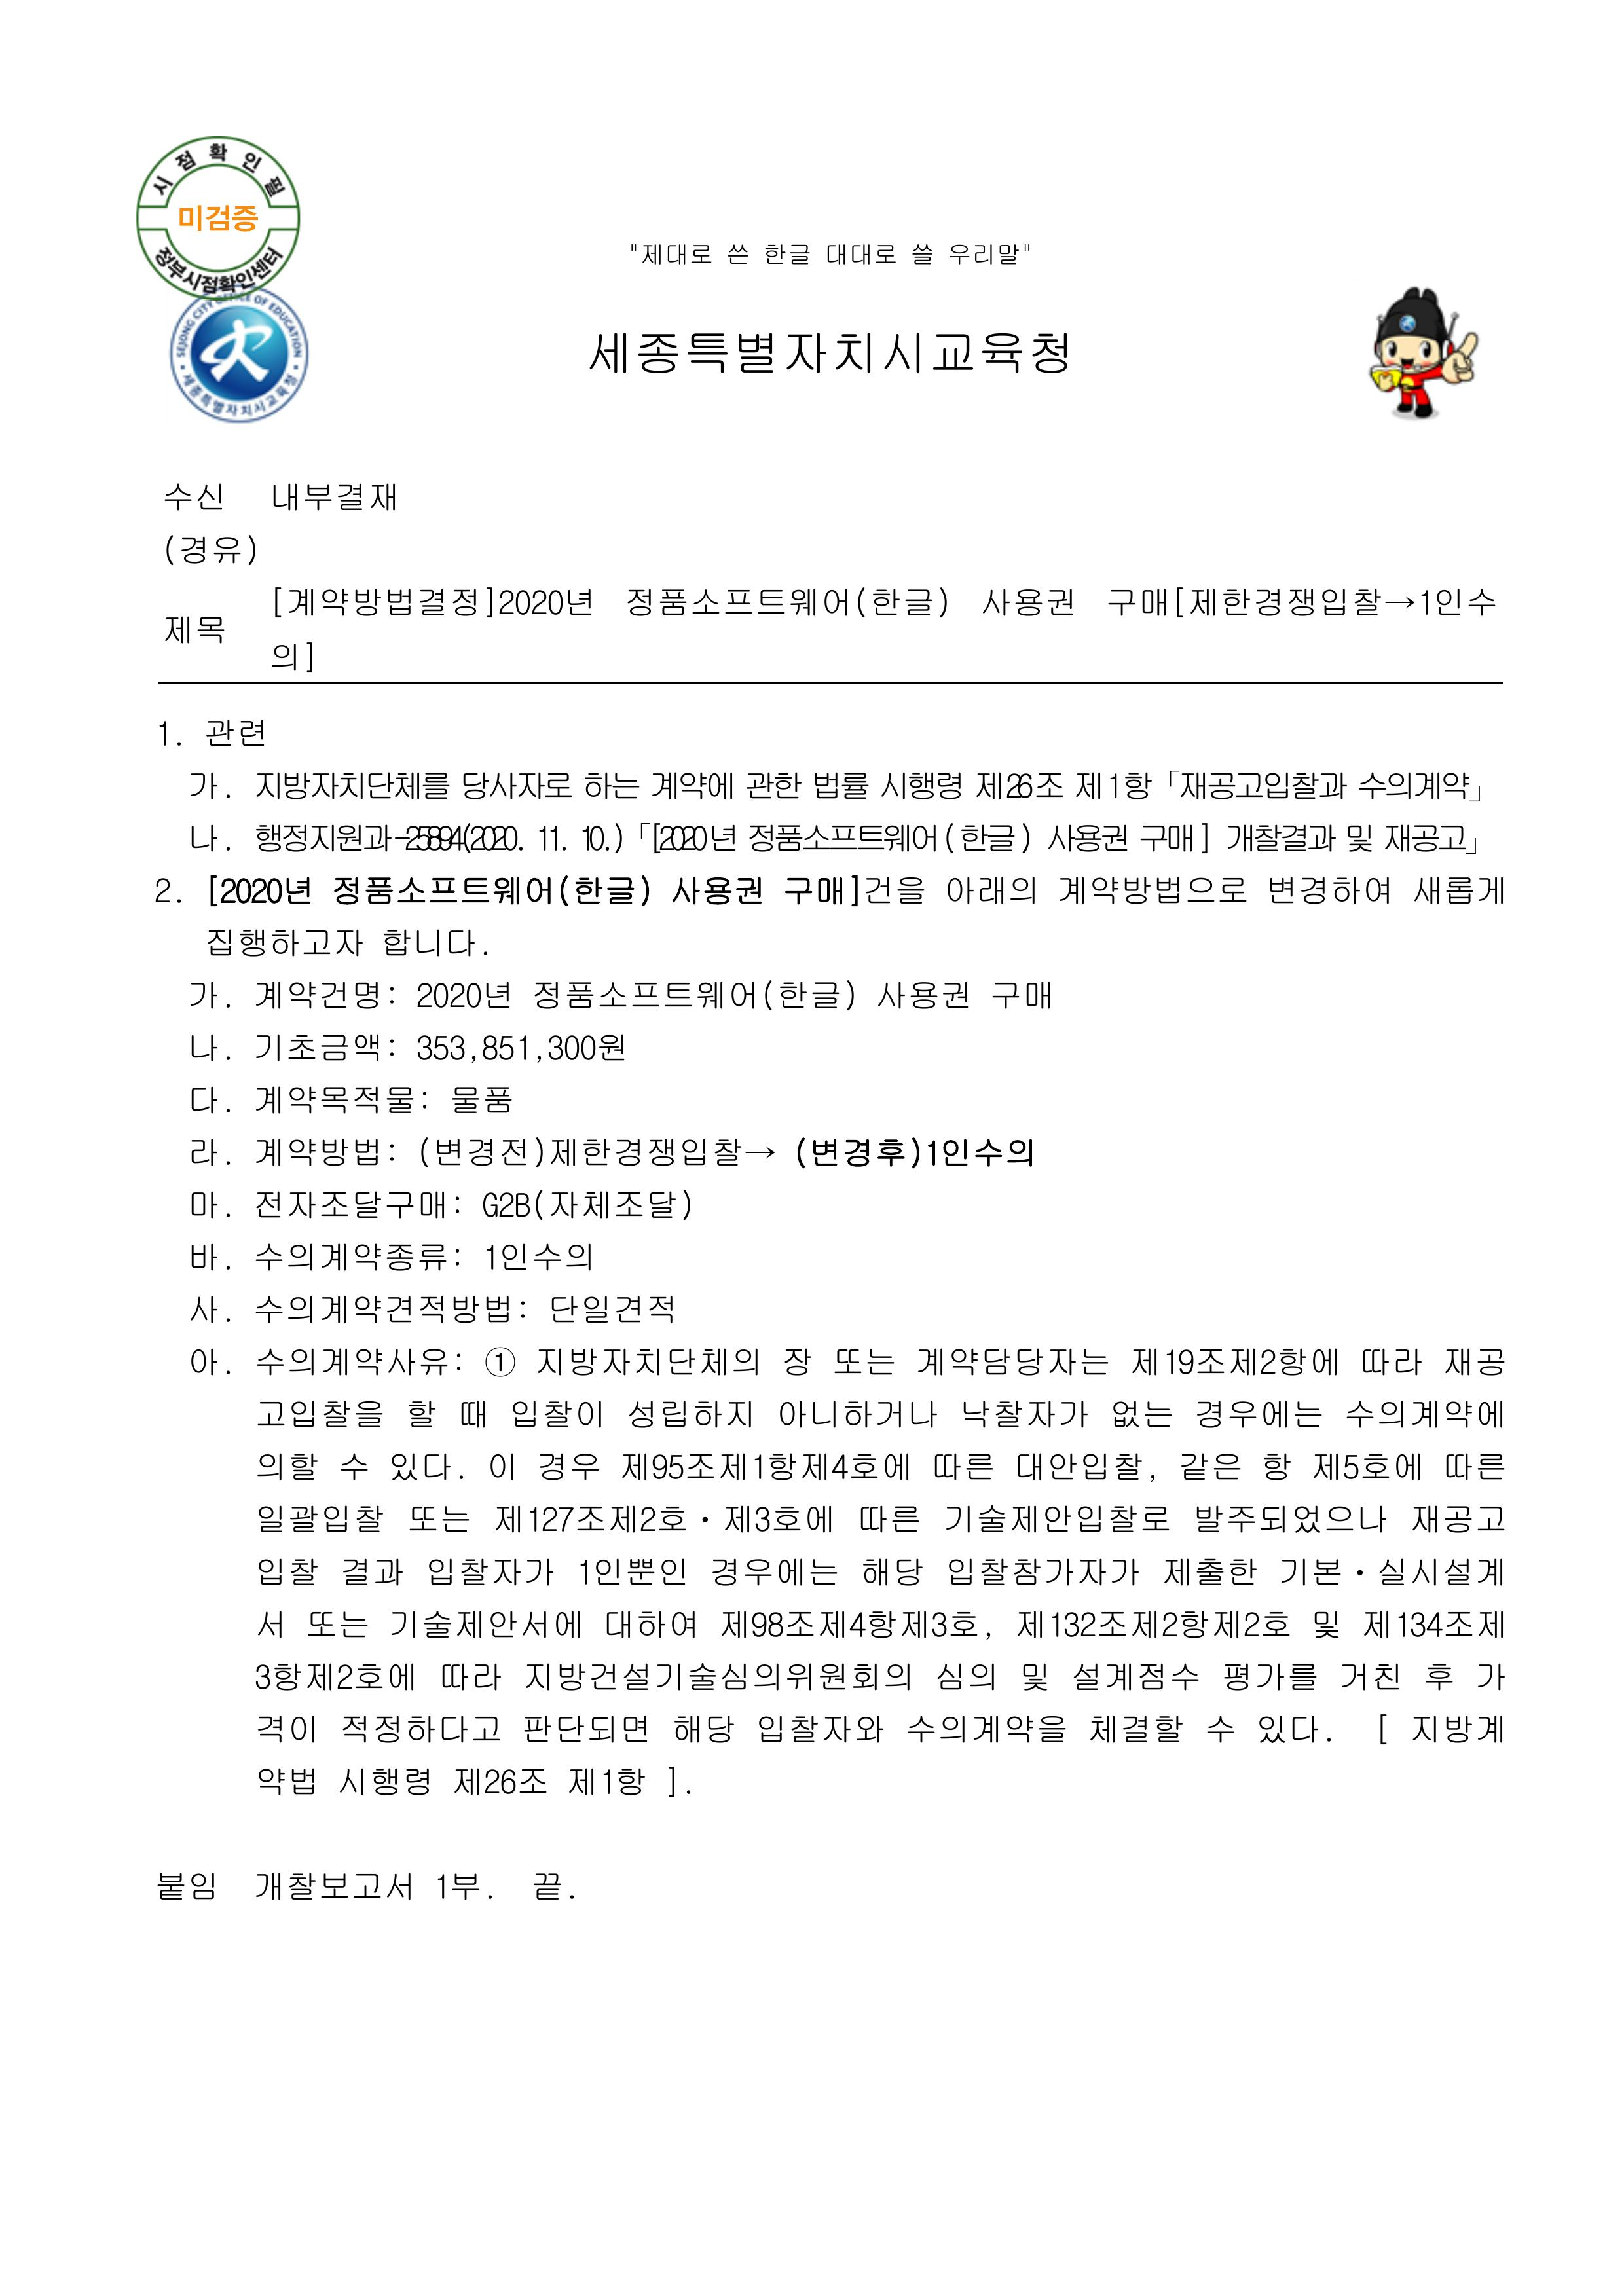t: (589, 327, 1072, 380), (520, 1657, 882, 1696), (417, 1133, 773, 1172), (531, 975, 856, 1014), (624, 583, 951, 620), (329, 872, 652, 907), (617, 1448, 910, 1485), (251, 1290, 531, 1327), (1011, 1606, 1290, 1643), (717, 1606, 982, 1643), (789, 1133, 1035, 1172), (255, 821, 524, 856), (939, 1499, 1169, 1538), (251, 1237, 466, 1276), (480, 1186, 696, 1223), (534, 1344, 761, 1379), (1169, 583, 1383, 620), (251, 1186, 466, 1223), (269, 583, 480, 620), (1190, 1499, 1387, 1538), (1125, 1344, 1341, 1379), (255, 1344, 466, 1379), (383, 1606, 584, 1643), (251, 766, 448, 803), (944, 1552, 1141, 1589), (490, 1499, 689, 1534), (745, 821, 939, 856), (1055, 872, 1248, 907), (914, 1344, 1107, 1379), (1165, 766, 1348, 803), (251, 1077, 420, 1116), (251, 1868, 417, 1905), (337, 1710, 501, 1747), (903, 1710, 1065, 1747), (204, 924, 362, 961), (773, 1395, 939, 1430), (1341, 1395, 1506, 1430), (251, 972, 399, 1010), (251, 1133, 397, 1172), (251, 1028, 397, 1065), (1359, 1606, 1503, 1643), (269, 476, 397, 517), (1190, 1395, 1323, 1434), (1069, 1657, 1200, 1696), (780, 872, 924, 907), (1014, 1448, 1151, 1485), (624, 1395, 752, 1434), (1373, 1552, 1506, 1589), (250, 1661, 383, 1698), (752, 1710, 886, 1747), (707, 1552, 838, 1589), (1355, 766, 1485, 803), (545, 1290, 673, 1327), (427, 1552, 555, 1589), (520, 1710, 649, 1747), (257, 1502, 383, 1539), (958, 1395, 1090, 1430), (255, 1448, 376, 1485), (1265, 872, 1390, 907), (258, 1395, 383, 1430), (480, 583, 596, 620), (459, 766, 573, 803), (576, 1552, 689, 1589), (204, 872, 311, 910), (1223, 821, 1341, 856), (480, 1237, 596, 1272), (721, 1499, 835, 1534), (380, 924, 483, 961), (874, 979, 972, 1017), (1158, 1552, 1258, 1589), (1083, 1710, 1183, 1747), (1406, 1710, 1506, 1747), (1397, 583, 1496, 620), (979, 583, 1076, 620), (671, 872, 763, 910), (508, 1395, 606, 1430), (972, 766, 1065, 803), (1410, 872, 1506, 907), (1406, 1502, 1503, 1538), (1220, 1661, 1316, 1696), (337, 1764, 434, 1799), (452, 1764, 548, 1799), (411, 979, 513, 1010), (944, 872, 1035, 907), (649, 766, 735, 803), (879, 766, 965, 803), (541, 1028, 627, 1065), (1380, 821, 1469, 856), (645, 821, 738, 854), (603, 1606, 700, 1638), (176, 200, 258, 237), (1072, 766, 1155, 803), (1044, 821, 1130, 856), (562, 1764, 649, 1799), (958, 817, 1033, 856), (387, 1448, 466, 1485), (176, 531, 258, 566), (1255, 1710, 1330, 1747), (1276, 1552, 1348, 1589), (856, 1552, 921, 1592), (1308, 1448, 1390, 1480), (534, 1448, 603, 1485), (1176, 1448, 1244, 1485), (1137, 821, 1213, 854), (337, 1552, 404, 1589), (742, 766, 807, 803), (807, 766, 872, 803), (928, 1448, 993, 1485), (304, 1606, 369, 1643), (255, 1552, 318, 1589), (255, 1710, 318, 1747), (671, 1710, 735, 1747), (155, 1868, 218, 1905), (448, 1082, 513, 1118), (831, 1344, 896, 1379), (1441, 1344, 1506, 1379), (1107, 1399, 1172, 1434), (1338, 1657, 1403, 1692), (580, 766, 642, 803), (1441, 1448, 1503, 1485), (638, 239, 714, 269), (821, 239, 896, 269), (438, 1657, 501, 1692), (255, 1764, 318, 1799), (1104, 583, 1169, 617), (1359, 1344, 1424, 1378), (986, 979, 1055, 1010), (204, 713, 265, 749), (856, 1499, 917, 1534), (935, 1657, 997, 1692), (411, 1028, 469, 1065), (476, 1028, 534, 1065), (431, 1868, 487, 1905), (162, 613, 227, 645), (165, 480, 227, 513), (951, 244, 1033, 269), (408, 1502, 469, 1534), (576, 821, 627, 854), (186, 975, 228, 1010), (761, 239, 810, 269), (269, 641, 315, 673), (531, 1868, 569, 1905), (186, 1133, 227, 1169), (186, 1237, 227, 1272), (186, 766, 228, 800), (1200, 1710, 1237, 1747), (186, 821, 227, 854), (186, 1082, 227, 1116), (186, 1186, 227, 1220), (186, 1290, 227, 1323), (186, 1344, 227, 1378), (779, 1344, 814, 1379), (1308, 1606, 1341, 1643), (186, 1028, 221, 1061), (483, 1344, 517, 1379), (404, 1395, 438, 1430), (1018, 1661, 1051, 1696), (483, 1448, 520, 1480), (1258, 1448, 1290, 1485), (1387, 1448, 1424, 1480), (1469, 1661, 1506, 1692), (1341, 821, 1373, 856), (383, 1661, 418, 1692), (1420, 1661, 1455, 1692), (659, 1764, 691, 1799), (534, 824, 569, 854), (455, 1399, 487, 1430), (255, 1606, 286, 1638), (886, 1664, 914, 1692), (1373, 1713, 1396, 1747), (910, 239, 935, 269), (156, 724, 179, 749), (156, 879, 176, 907), (728, 244, 749, 269)
